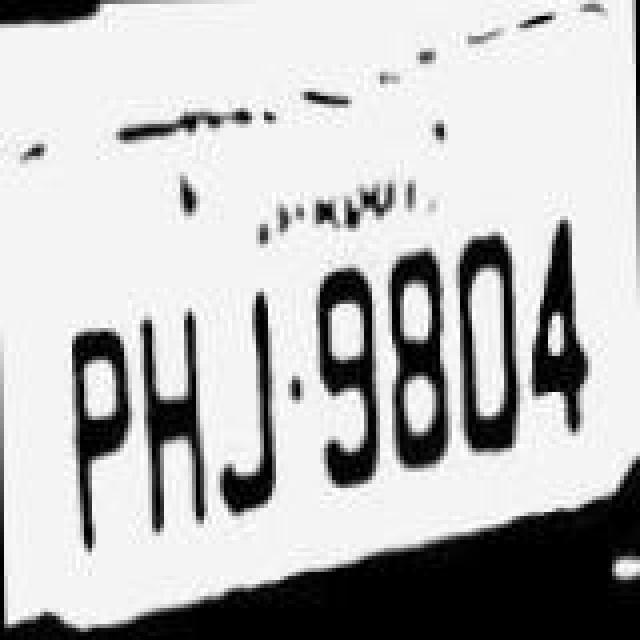4: (522, 218, 598, 466)
8: (378, 228, 454, 496)
9: (306, 246, 386, 514)
H: (132, 298, 216, 542)
J: (210, 278, 290, 530)
O: (450, 220, 526, 476)
P: (54, 312, 134, 556)
